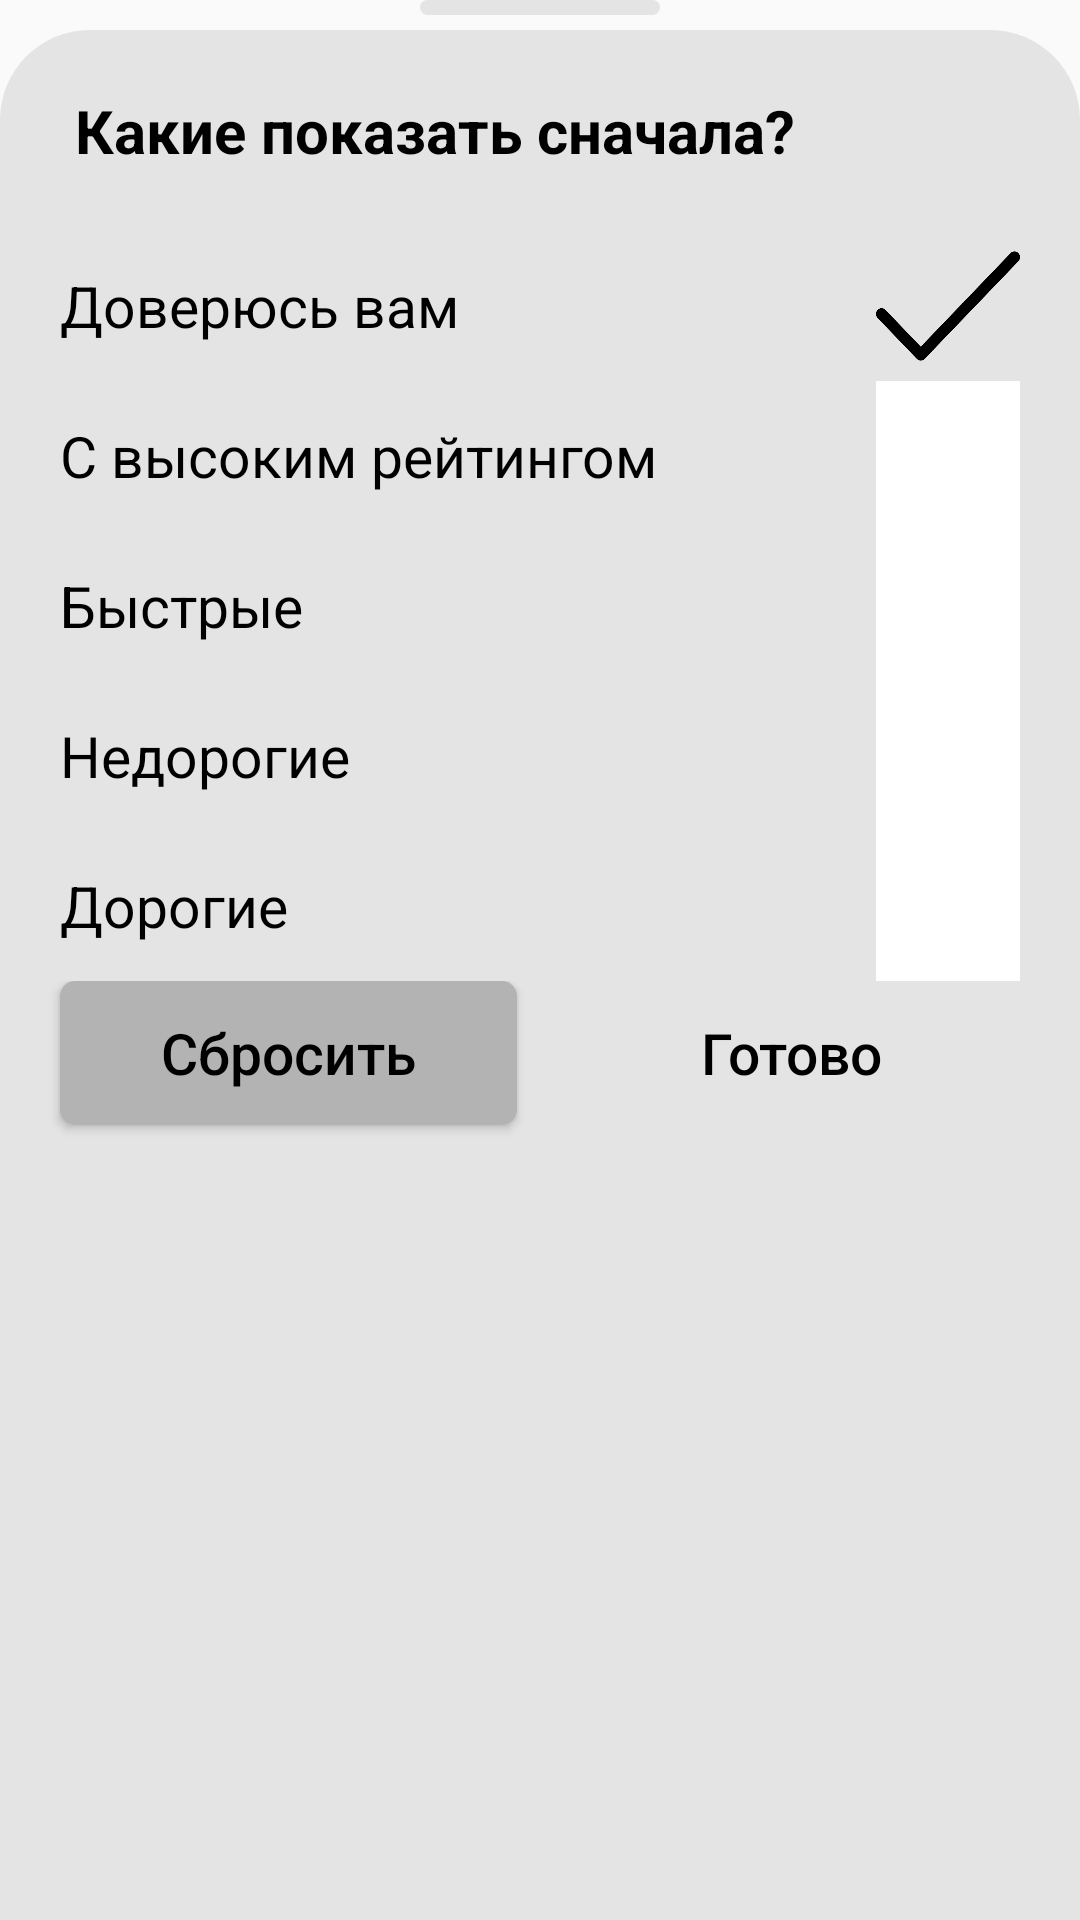

Screen size 1080×1920. Icon name, then its box in pixels as (x1, y1, x2, y2):
tick: (876, 251, 1020, 361)
